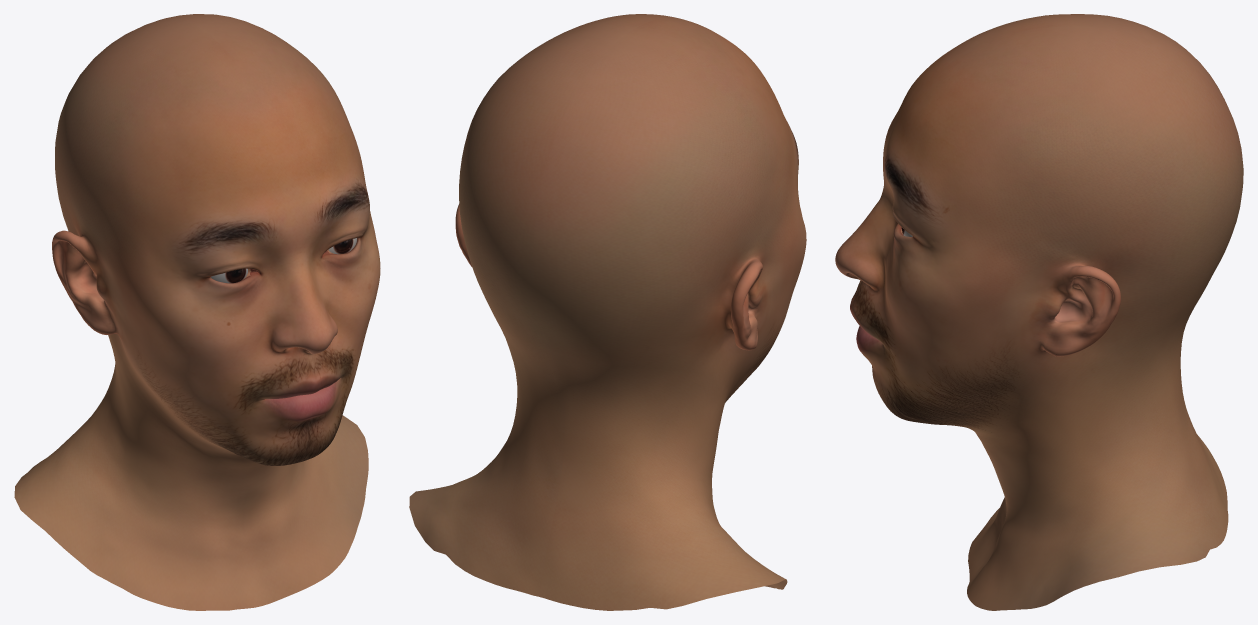
The picture shows the model from 3 angles, left to right: view 1: azimuth 30°, elevation 25°; view 2: azimuth 150°, elevation 25°; view 3: azimuth 270°, elevation 25°; orthographic projection. The views are drawn at different scales.
Parts seen in each view (by area): view 1: Registered head; view 2: Registered head; view 3: Registered head.
Part boxes in pixels (x1,y1,x2,y2): Registered head: (14, 14, 380, 610); Registered head: (409, 14, 806, 610); Registered head: (835, 14, 1243, 610).
Size of the model in its own units: 1.25 by 1.92 by 1.28.
Materials: 3 (3 with a texture image).
